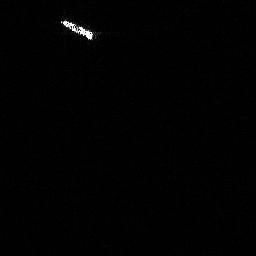ship: (57, 17, 100, 43)
